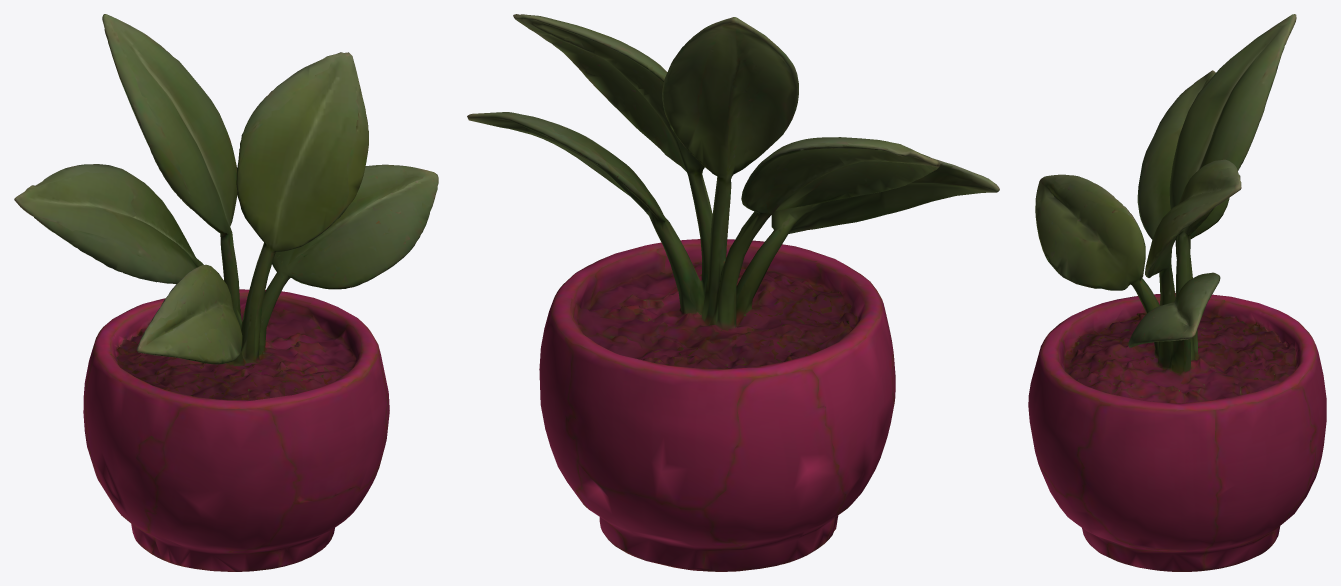
File: planta.glb
3 views of the same model, side by side, from view 1: azimuth 30°, elevation 25°; view 2: azimuth 150°, elevation 25°; view 3: azimuth 270°, elevation 25° (orthographic). The views are drawn at different scales.
Visible parts, largest first — view 1: geometry_0; view 2: geometry_0; view 3: geometry_0.
Boxes of the visible parts, box(x1,y1,x2,y2) form: geometry_0: box(14, 14, 438, 571); geometry_0: box(467, 14, 999, 571); geometry_0: box(1028, 14, 1326, 571).
Bounding box in the file's own units: 0.8782 × 0.9995 × 0.5606.
1 material, 1 textured.
